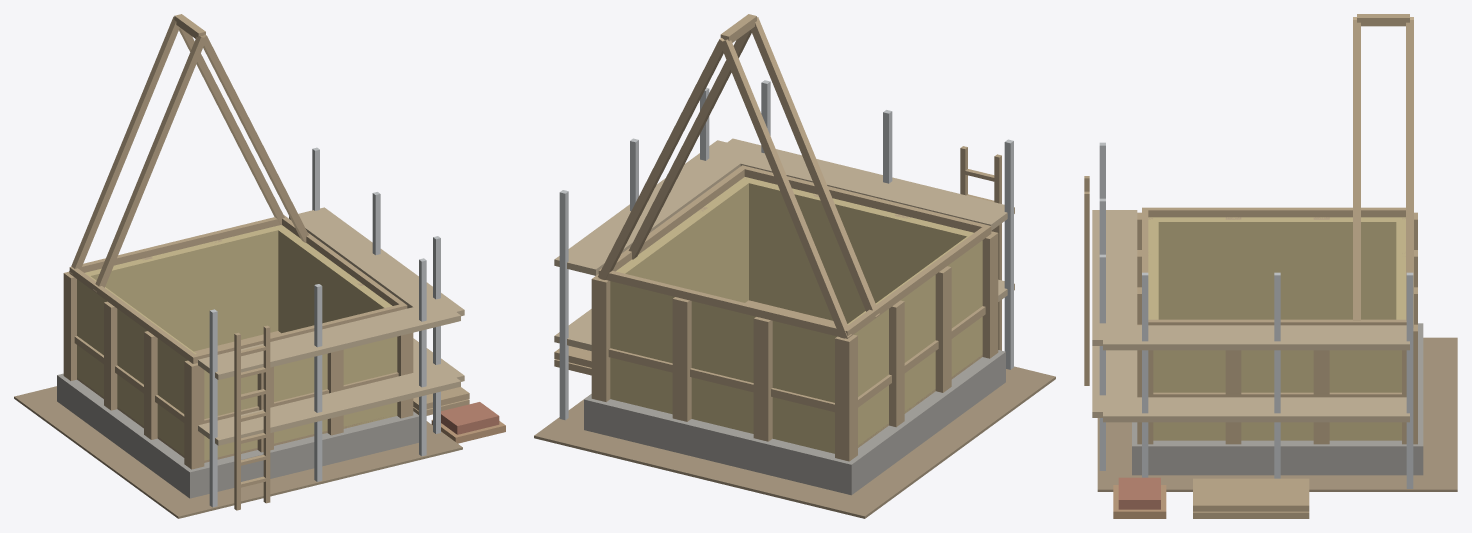
File: chicken_coop_site_8.glb
3 renders of one model, left to right at view 1: azimuth 30°, elevation 25°; view 2: azimuth 150°, elevation 25°; view 3: azimuth 270°, elevation 25°, orthographic. The views are drawn at different scales.
Parts seen in each view (by area): view 1: body; view 2: body; view 3: body.
Part boxes in pixels (box(x1,y1,x2,y2)): body: box(14, 14, 505, 518); body: box(534, 14, 1055, 518); body: box(1084, 14, 1457, 518).
Size of the model in its own units: 1.6 by 1.67 by 1.41.
